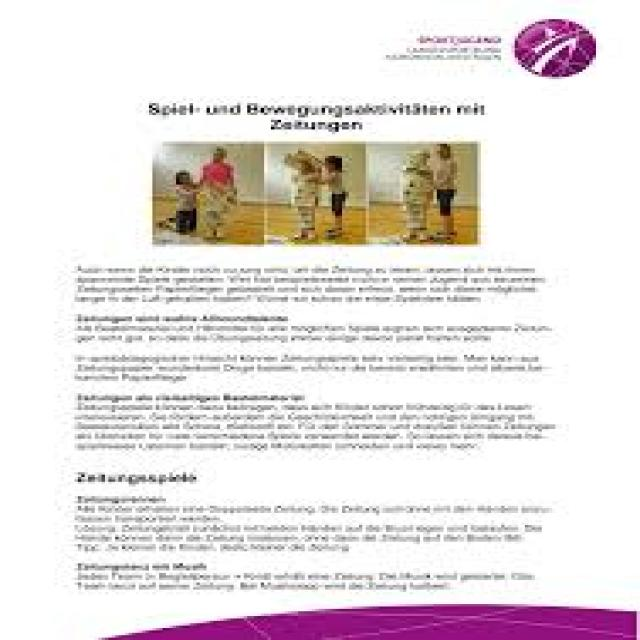paper: (0, 16, 637, 640)
